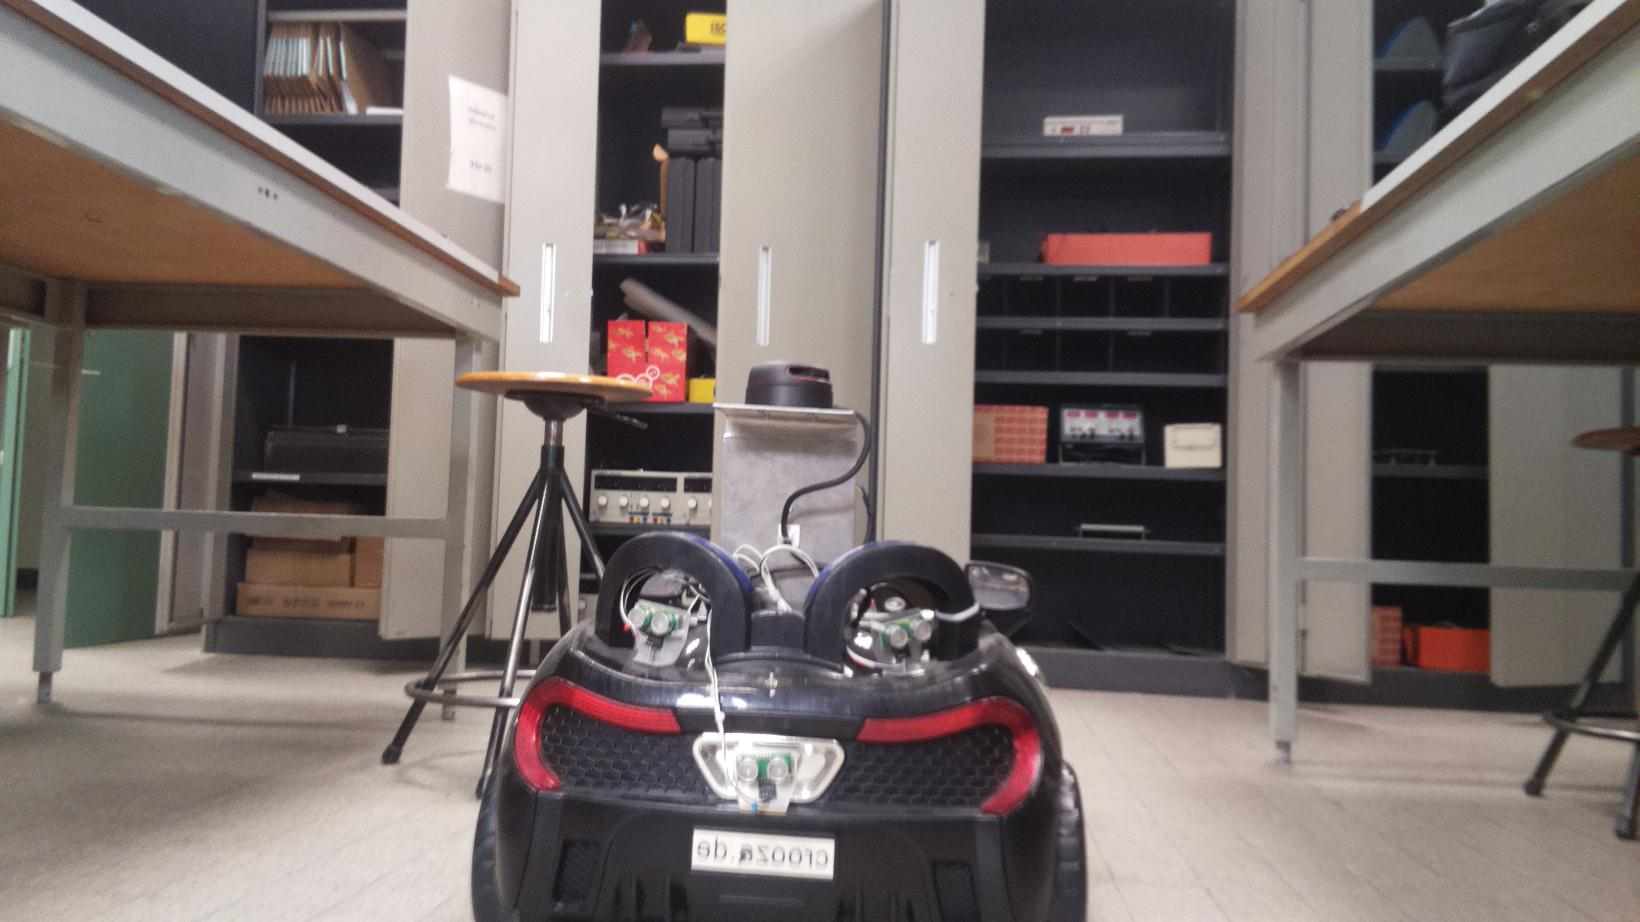big: (467, 359, 1105, 922)
